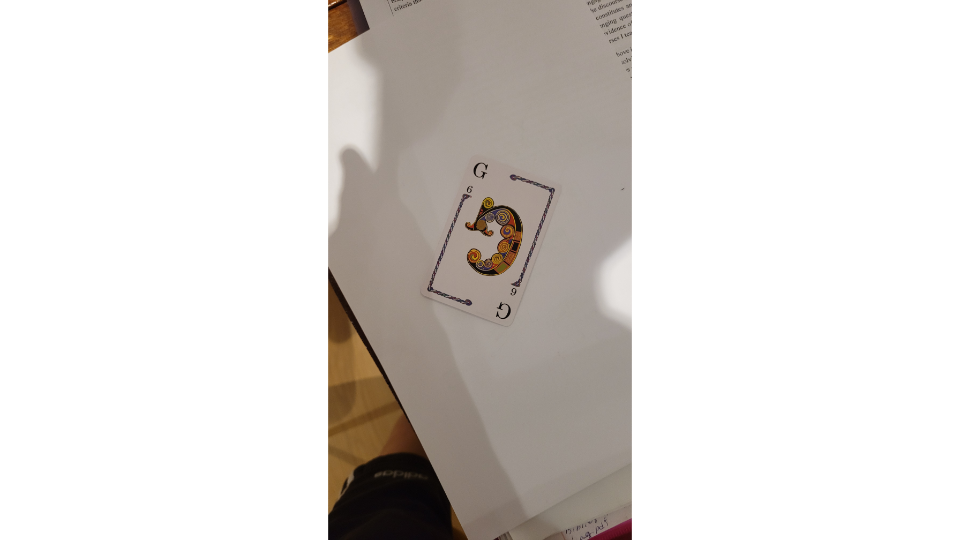G: (417, 151, 566, 330)
